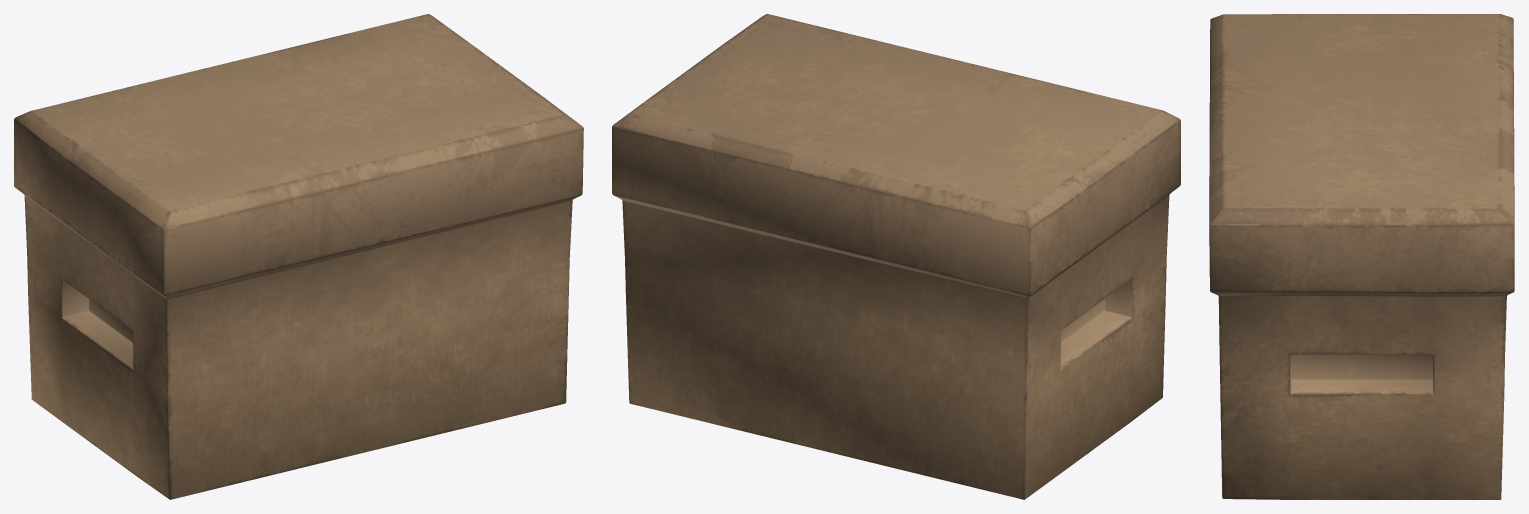
Rendered from small_box_02.gltf.
3 views of the same model, side by side, from view 1: azimuth 30°, elevation 25°; view 2: azimuth 150°, elevation 25°; view 3: azimuth 270°, elevation 25° (orthographic).
Parts seen in each view (by area): view 1: small_box_02; view 2: small_box_02; view 3: small_box_02.
Part boxes in pixels (<box>): small_box_02: <box>14,14,583,499</box>; small_box_02: <box>612,14,1180,499</box>; small_box_02: <box>1209,14,1514,499</box>.
Size of the model in its own units: 0.5146 by 0.3381 by 0.3212.
Materials: 1 (1 with a texture image).
